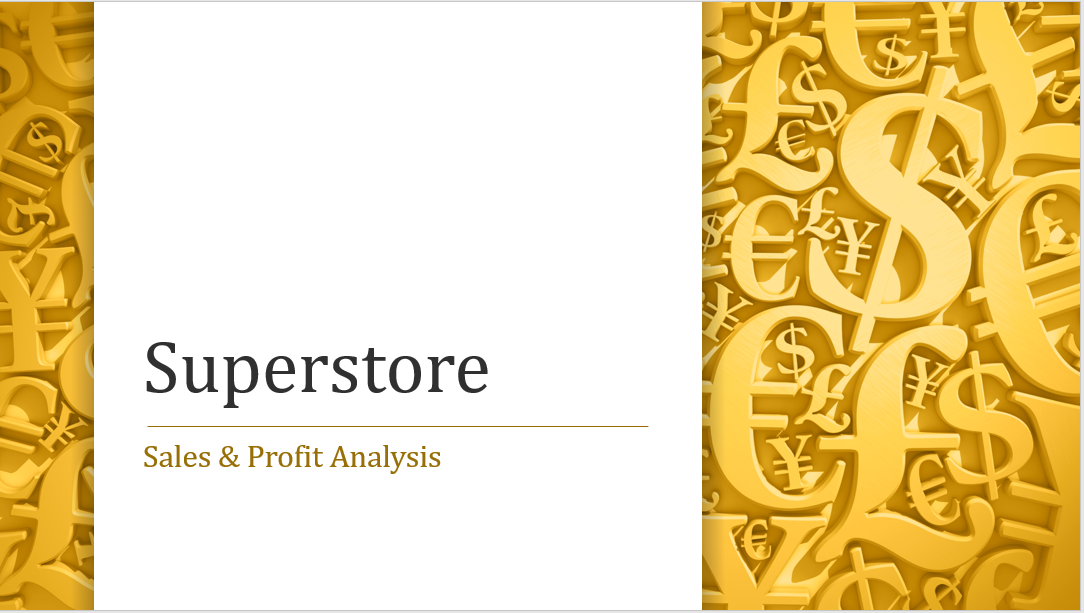

This screenshot's page, from the dashboard's own definition file:
{"tool":"tableau","page":{"name":"IntroPage","canvas":[1000,1000],"units":"permille","ordinal":1},"visuals":[{"type":"worksheet","box":[0,0,1000,1000]},{"type":"worksheet","param":"Image/IntroPage.PNG","box":[4.8,9.3,990.3,981.4]}]}

Visuals, with their boxes on the dashboard's canvas, which has no fixed pixel size, in thousandths of its width and height (x1, y1, x2, y2). These are canvas units, not pixel positions in the 1084x613 screenshot, which may show the page scaled, cropped or inside an application window:
worksheet: 0:0:1000:1000
worksheet: 5:9:995:991
